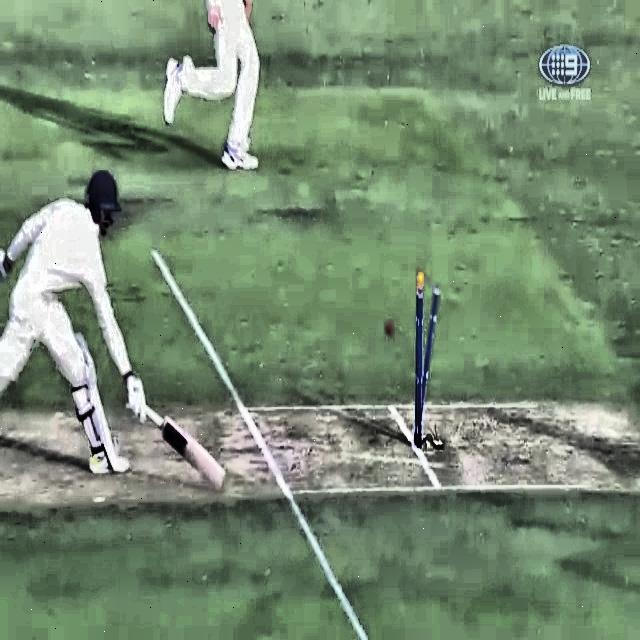Ball: (380, 318, 399, 341)
Bat: (133, 398, 233, 492)
Dis_Wicket: (410, 269, 443, 452)
Pitch_Line: (150, 245, 367, 640)
